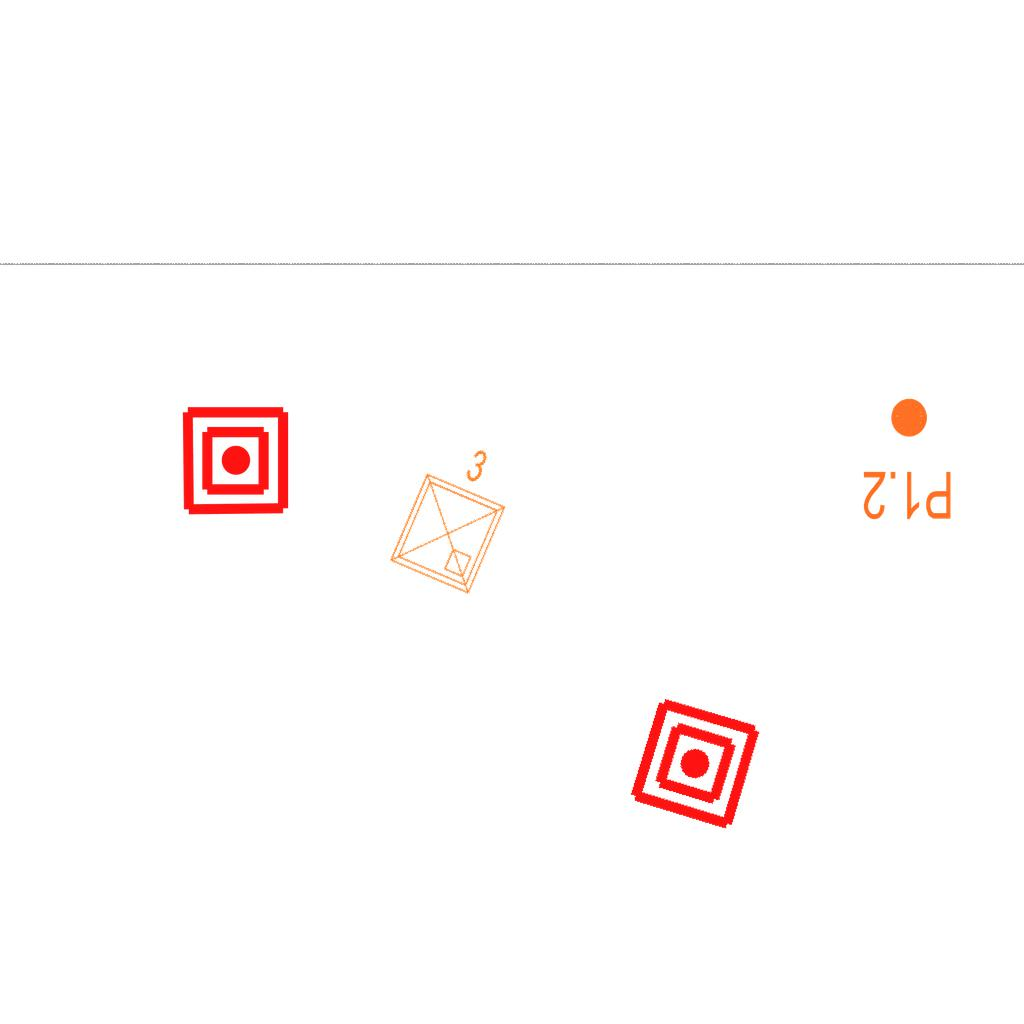Downlight_LED_Einbauleuchten_Flur: (861, 395, 954, 523)
Einbaudownlights_LED_Konferenzraeume: (376, 424, 532, 604)
NAM-Nichtautomatischer_Melder: (624, 692, 767, 835), (179, 404, 292, 517)
